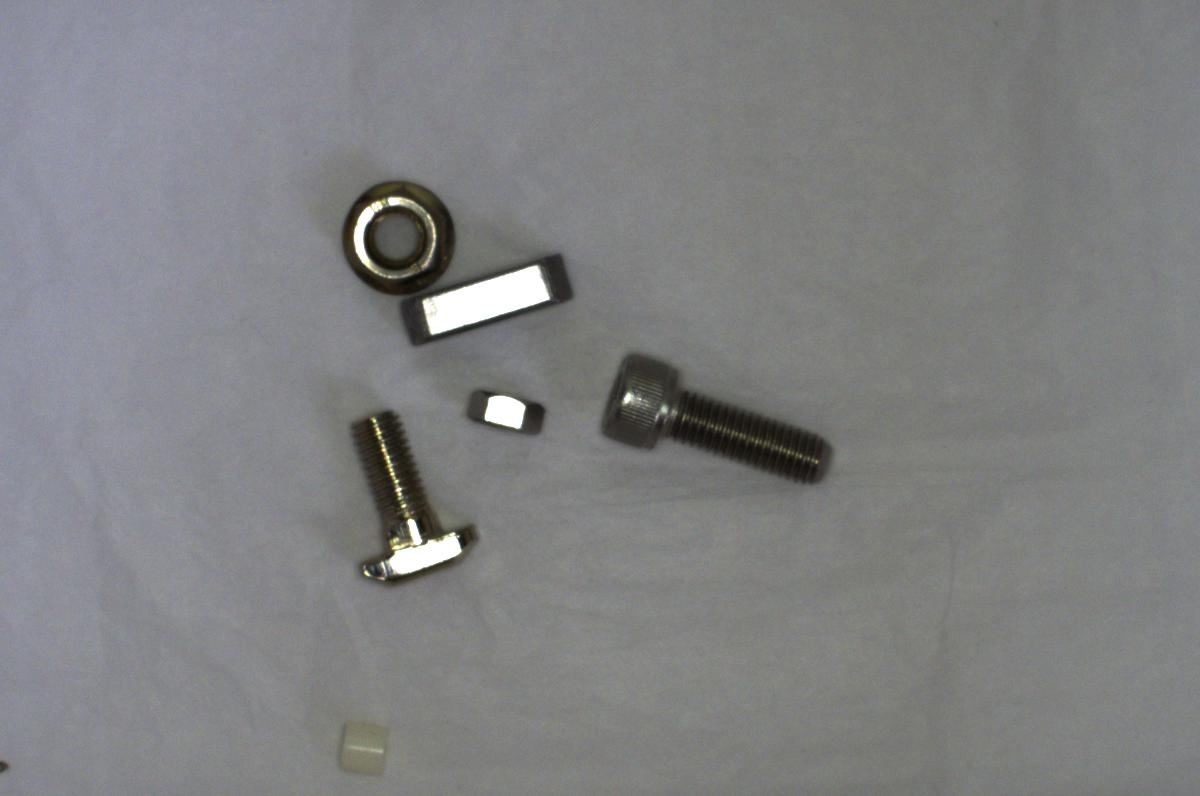Flange nut: (330, 169, 459, 296)
Hexagon nut: (454, 378, 555, 442)
Hexagon screw: (602, 343, 840, 489)
Keybar: (393, 243, 581, 345)
Plastic cushion pillar: (318, 712, 400, 779)
T-shaped screw: (332, 406, 484, 595)
